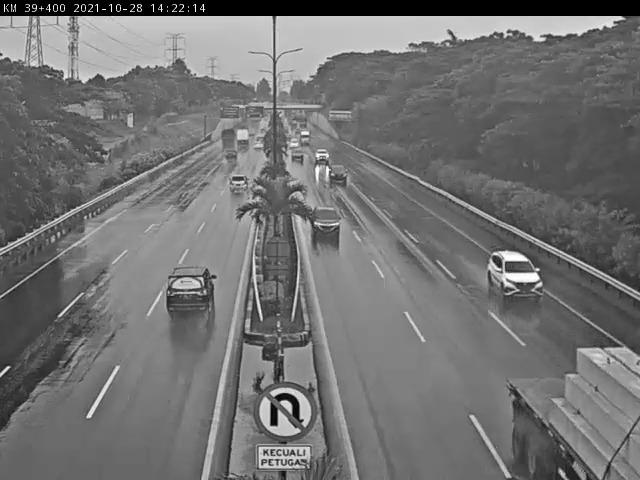big truck: (501, 328, 640, 480)
car: (482, 248, 547, 304), (161, 262, 218, 324), (308, 203, 344, 244), (227, 172, 250, 199), (215, 148, 238, 168), (328, 164, 348, 185), (312, 148, 330, 167), (289, 148, 305, 164)
